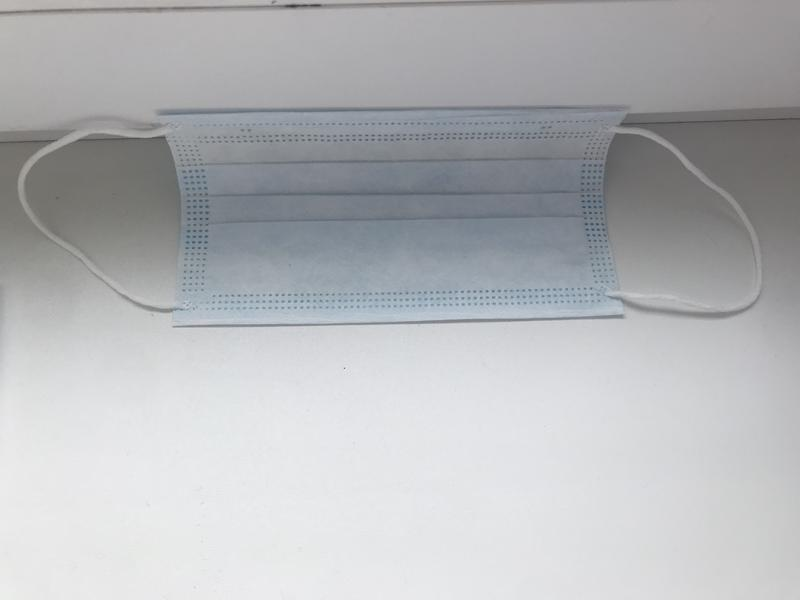medical_mask: (18, 108, 764, 335)
